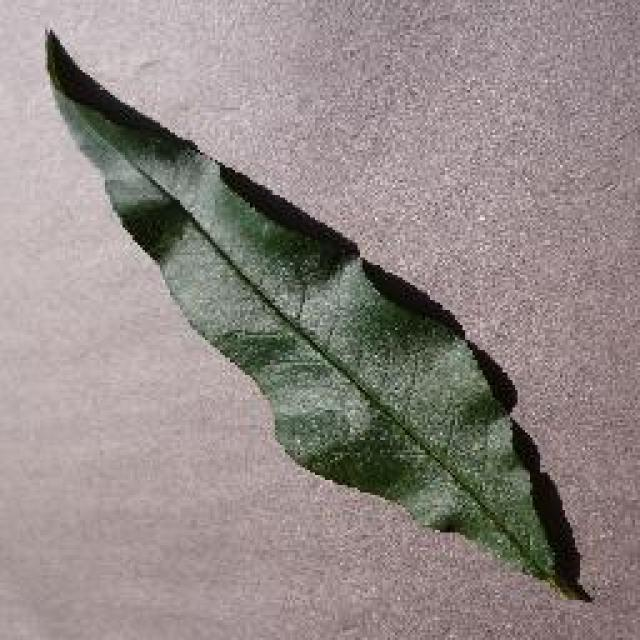Pea_healthy: (54, 84, 504, 475)
